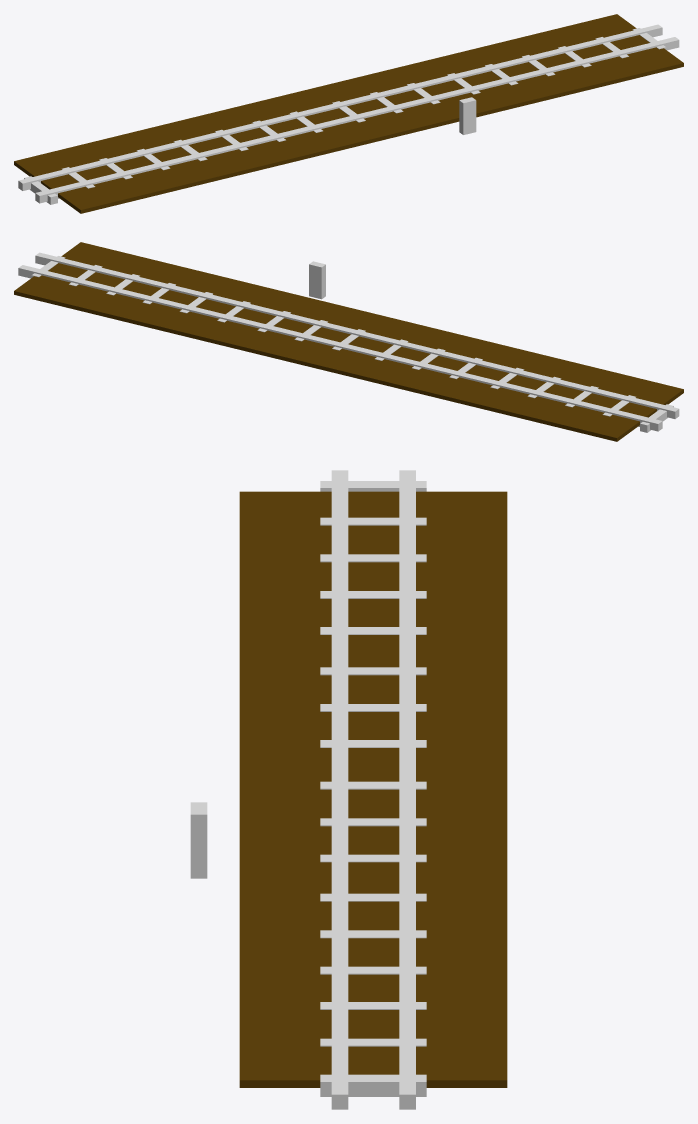
The model's file is Train.fbx.
The picture shows the model from 3 angles, top to bottom: view 1: azimuth 30°, elevation 25°; view 2: azimuth 150°, elevation 25°; view 3: azimuth 270°, elevation 25°; orthographic projection. The views are drawn at different scales.
Parts seen in each view (by area): view 1: Cube.009, Cube, Cube.001, Cube.020; view 2: Cube.009, Cube.001, Cube, Cube.020; view 3: Cube.009, Cube, Cube.001, Cube.011, Cube.020.
Part boxes in pixels (bbox=[...]): Cube.009: bbox=[14, 14, 683, 213]; Cube: bbox=[35, 37, 679, 203]; Cube.001: bbox=[18, 24, 662, 190]; Cube.020: bbox=[459, 97, 476, 134]; Cube.009: bbox=[14, 242, 683, 441]; Cube.001: bbox=[18, 265, 662, 431]; Cube: bbox=[35, 252, 679, 418]; Cube.020: bbox=[309, 261, 325, 299]; Cube.009: bbox=[239, 491, 507, 1087]; Cube: bbox=[331, 470, 348, 1109]; Cube.001: bbox=[399, 470, 415, 1109]; Cube.011: bbox=[320, 1074, 426, 1096]; Cube.020: bbox=[190, 802, 207, 878].
Size of the model in its own units: 17676 by 860 by 3787.
